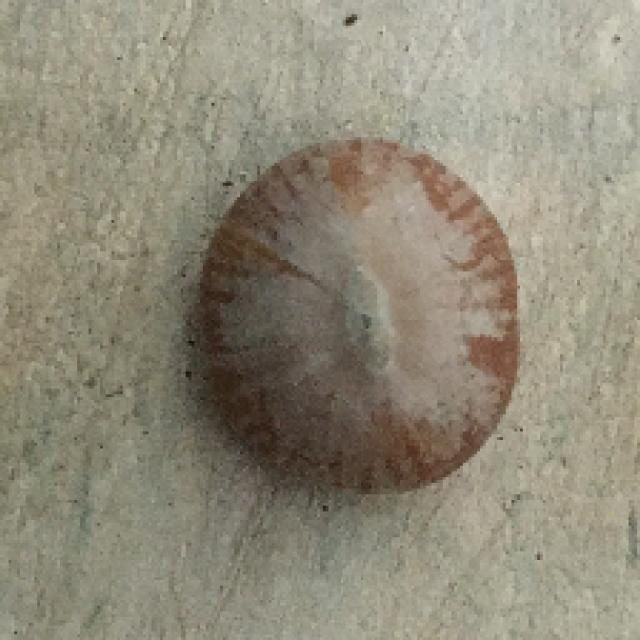qualityHazelnut: (187, 139, 516, 494)
